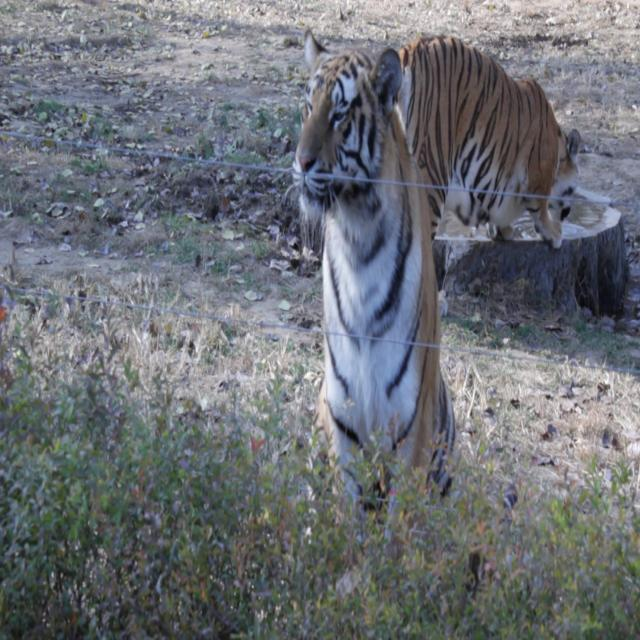Tiger: (283, 28, 456, 537), (395, 23, 587, 251)
